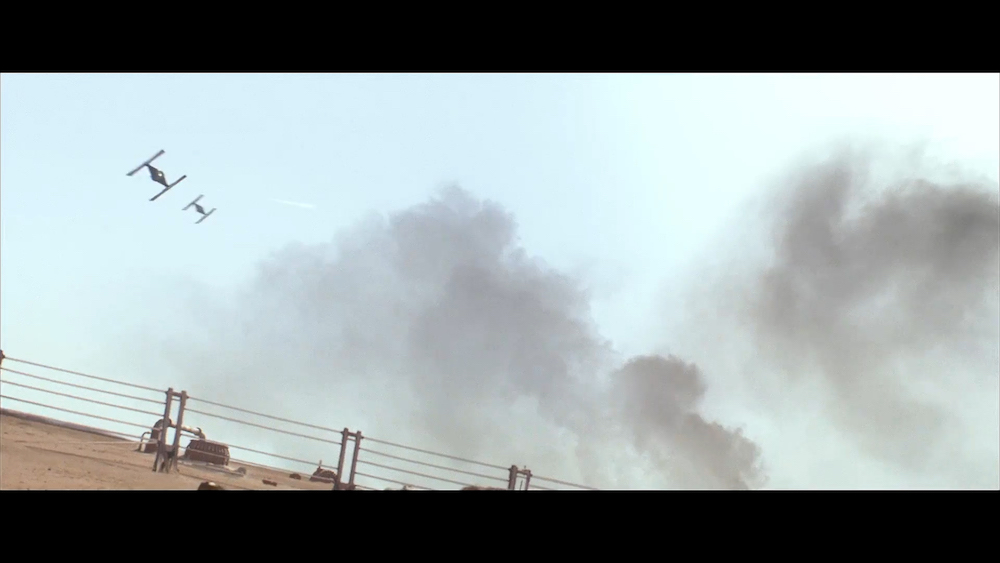Tie Fighter: (127, 151, 188, 202), (183, 195, 217, 225)
